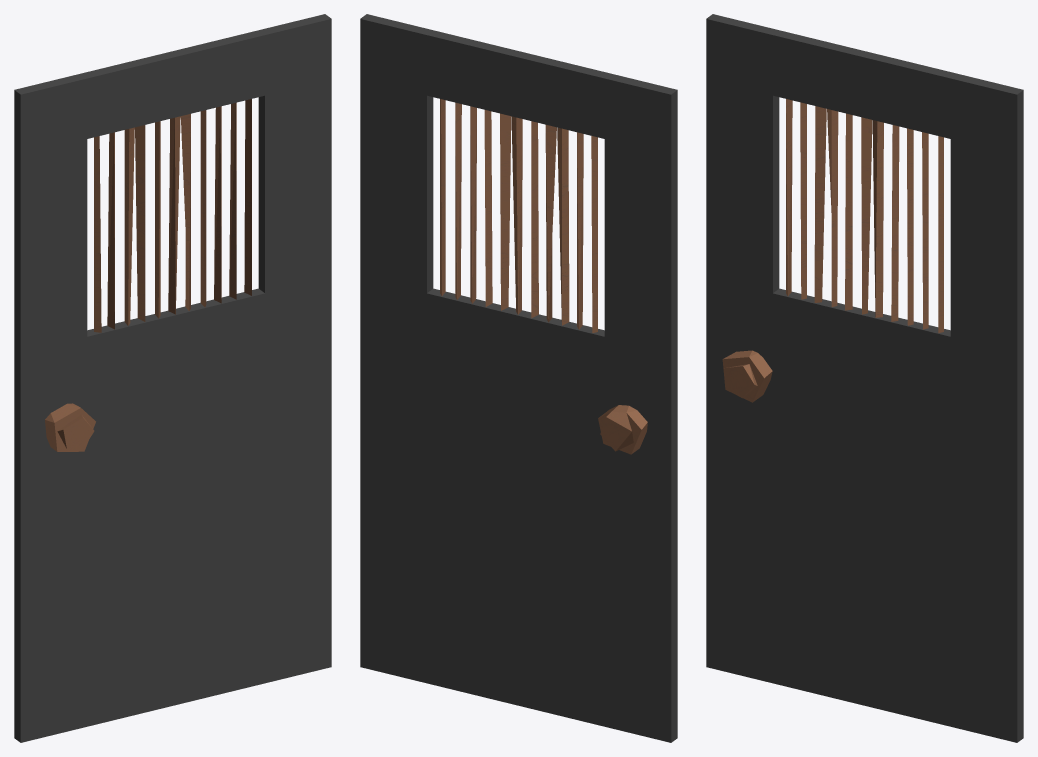
Rendered from door-factory-r.glb.
The picture shows the model from 3 angles, left to right: view 1: azimuth 30°, elevation 25°; view 2: azimuth 150°, elevation 25°; view 3: azimuth 330°, elevation 25°; orthographic projection.
Parts seen in each view (by area): view 1: Cylinder.131; view 2: Cylinder.131; view 3: Cylinder.131.
Part boxes in pixels (<box>): Cylinder.131: <box>14,14,331,742</box>; Cylinder.131: <box>360,14,677,742</box>; Cylinder.131: <box>706,14,1023,742</box>.
Size of the model in its own units: 1.13 by 2.25 by 0.1915.
Materials: 2 (1 with a texture image).
